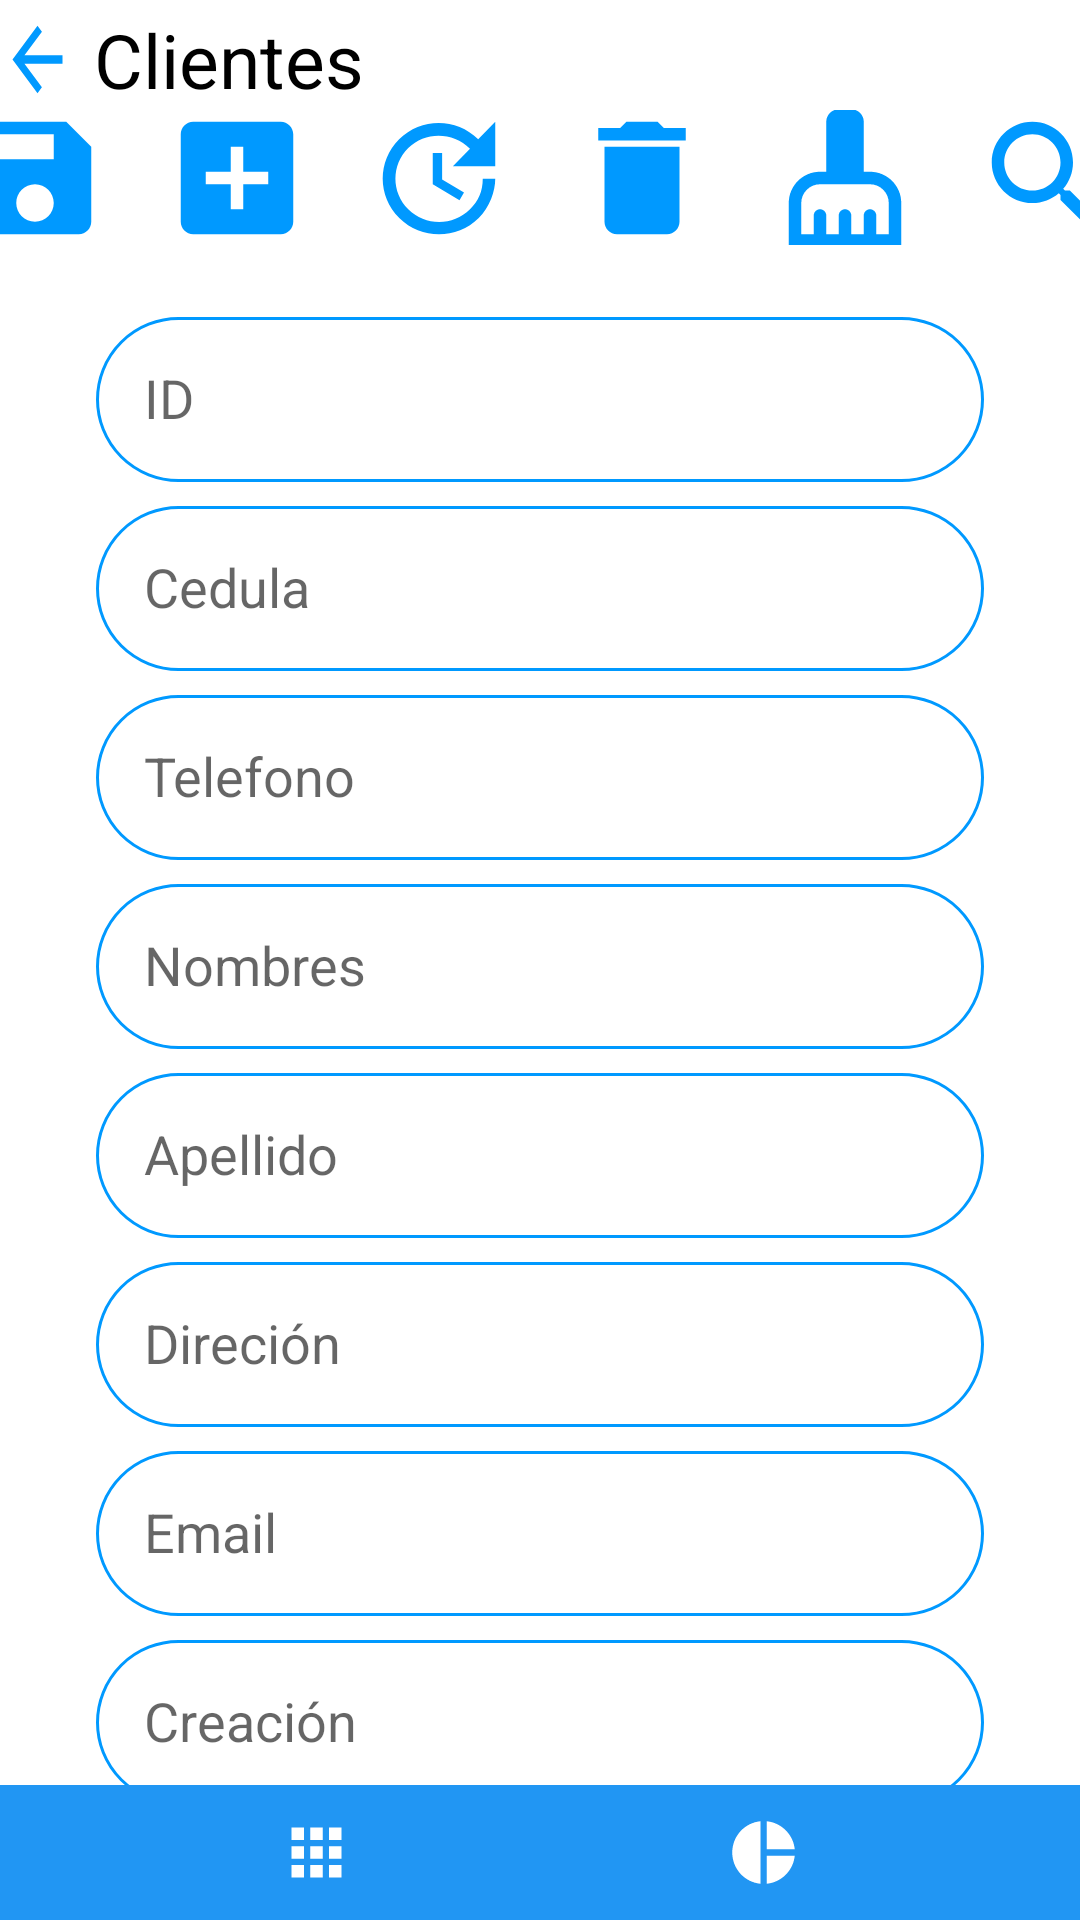

Named icons in this screenshot (1080×1920) and their bounding boxes, (x1, y1, x2, y2):
actualizar: (382, 122, 496, 235)
aniadir: (180, 121, 294, 235)
apps: (291, 1827, 342, 1878)
eliminar: (598, 121, 686, 235)
limpiar: (788, 110, 902, 245)
pie chart: (732, 1821, 795, 1884)
volver: (12, 26, 63, 93)
